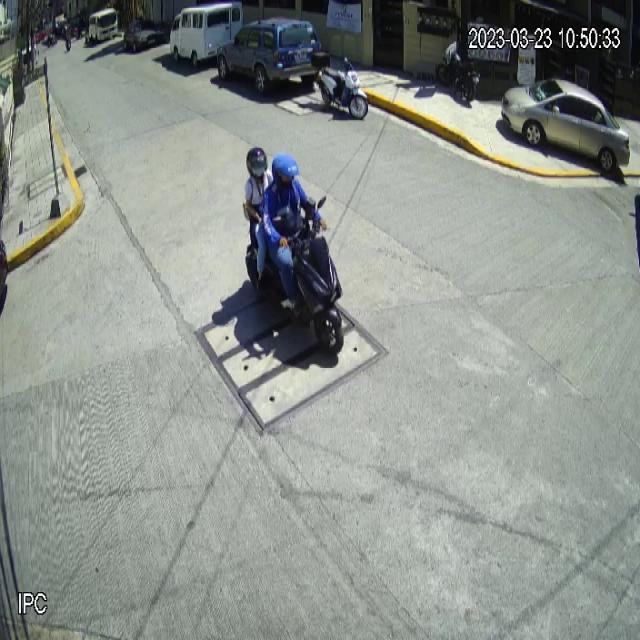Car: (500, 76, 630, 173), (215, 15, 322, 93)
Motorcycle: (272, 193, 344, 358), (311, 51, 368, 120)
Van: (170, 0, 244, 68)
